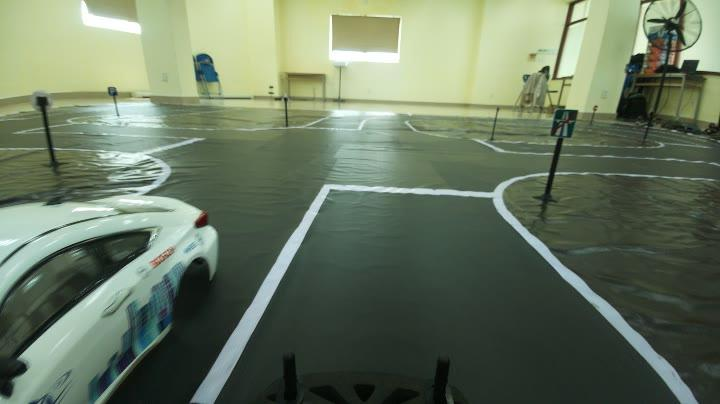car: (0, 177, 214, 404)
highway_exit: (548, 103, 580, 140)
